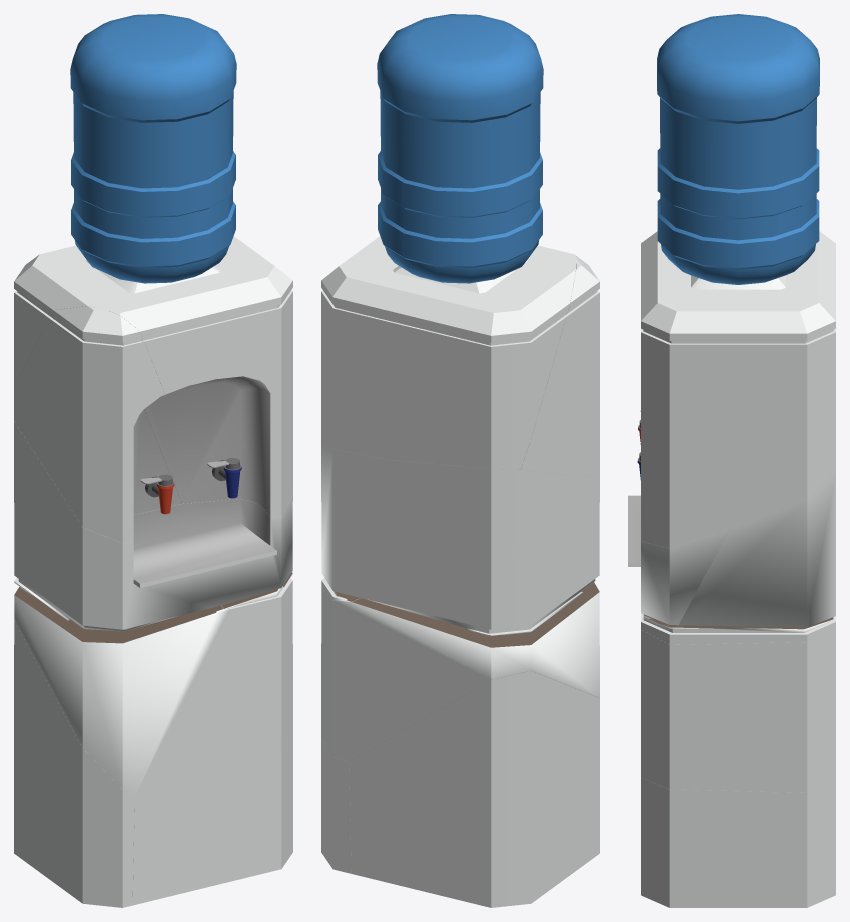
The model's file is Binh nuoc_Fractured.fbx.
3 renders of one model, left to right at view 1: azimuth 30°, elevation 25°; view 2: azimuth 150°, elevation 25°; view 3: azimuth 270°, elevation 25°, orthographic.
Visible parts, largest first — view 1: polySurface364.005, polySurface364.008_cell.003, polySurface364.004_cell.002, polySurface364.008_cell.001, polySurface364.008_cell.002, polySurface364.004_cell.003, polySurface364.004_cell.001, polySurface364.004_cell; view 2: polySurface364.004_cell.003, polySurface364.008_cell.003, polySurface364.005, polySurface364.004_cell.002, polySurface364.008_cell.001, polySurface364.008_cell, polySurface364.008_cell.002, polySurface364.004_cell.001; view 3: polySurface364.008_cell.003, polySurface364.005, polySurface364.004_cell.002, polySurface364.004_cell.001, polySurface364.008_cell, polySurface364.008_cell.001, polySurface364.004_cell.
Boxes of the visible parts, <box> form: polySurface364.005: <box>70,14,236,283</box>; polySurface364.008_cell.003: <box>14,236,292,517</box>; polySurface364.004_cell.002: <box>14,587,292,796</box>; polySurface364.008_cell.001: <box>14,421,292,631</box>; polySurface364.008_cell.002: <box>14,306,181,543</box>; polySurface364.004_cell.003: <box>14,621,134,907</box>; polySurface364.004_cell.001: <box>132,734,292,905</box>; polySurface364.004_cell: <box>221,572,292,609</box>; polySurface364.004_cell.003: <box>349,670,599,907</box>; polySurface364.008_cell.003: <box>321,236,576,469</box>; polySurface364.005: <box>377,14,543,283</box>; polySurface364.004_cell.002: <box>321,582,599,761</box>; polySurface364.008_cell.001: <box>393,460,599,636</box>; polySurface364.008_cell: <box>321,445,479,633</box>; polySurface364.008_cell.002: <box>521,256,599,477</box>; polySurface364.004_cell.001: <box>321,738,351,873</box>; polySurface364.008_cell.003: <box>641,231,835,548</box>; polySurface364.005: <box>657,14,819,284</box>; polySurface364.004_cell.002: <box>641,625,835,792</box>; polySurface364.004_cell.001: <box>641,778,835,907</box>; polySurface364.008_cell: <box>679,474,835,627</box>; polySurface364.008_cell.001: <box>628,495,728,625</box>; polySurface364.004_cell: <box>641,613,835,644</box>.
Size of the model in its own units: 459 by 1701 by 392.
